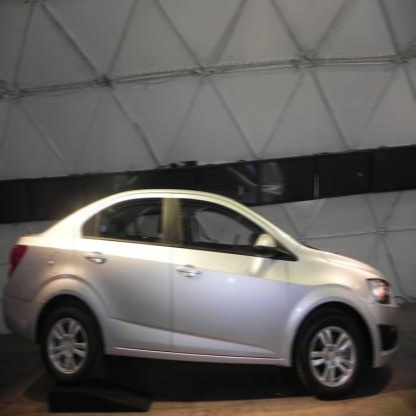Vehicle: (3, 187, 399, 401)
